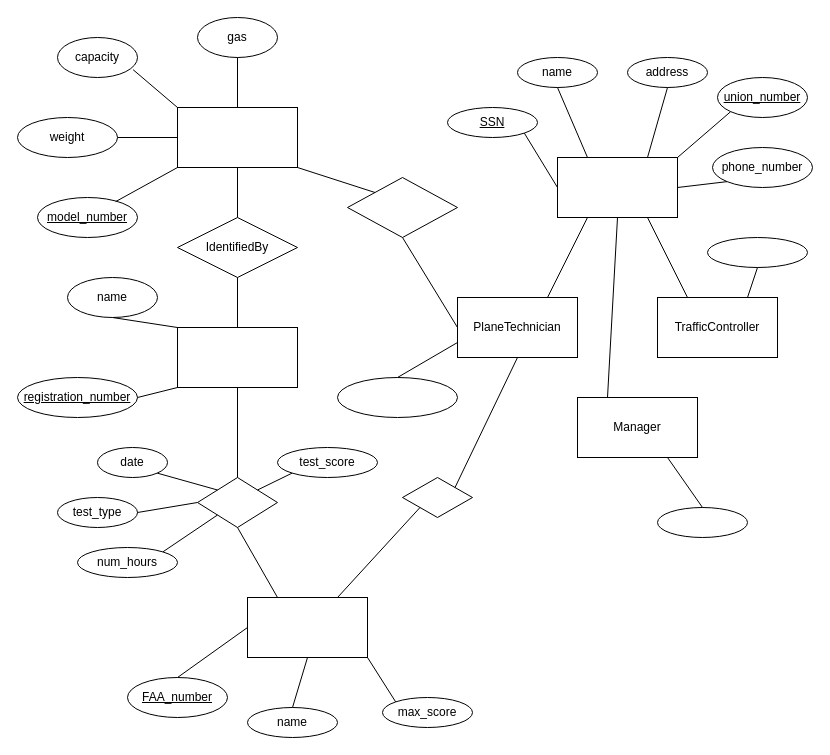
Some shapes in this 830 by 755 pixel diagram are drawn without their labels. The shapes that lost their labels are listed below. From the top down, each one's centre as x and y in pixels, then its label:
the point at 237,137: Model
the point at 402,207: ExpertOn
the point at 617,187: Employee
the point at 757,252: exam_date
the point at 237,357: Airplane
the point at 397,397: education_degree
the point at 237,502: TestInfo
the point at 437,497: Uses
the point at 702,522: benefit
the point at 307,627: SafetyTest
